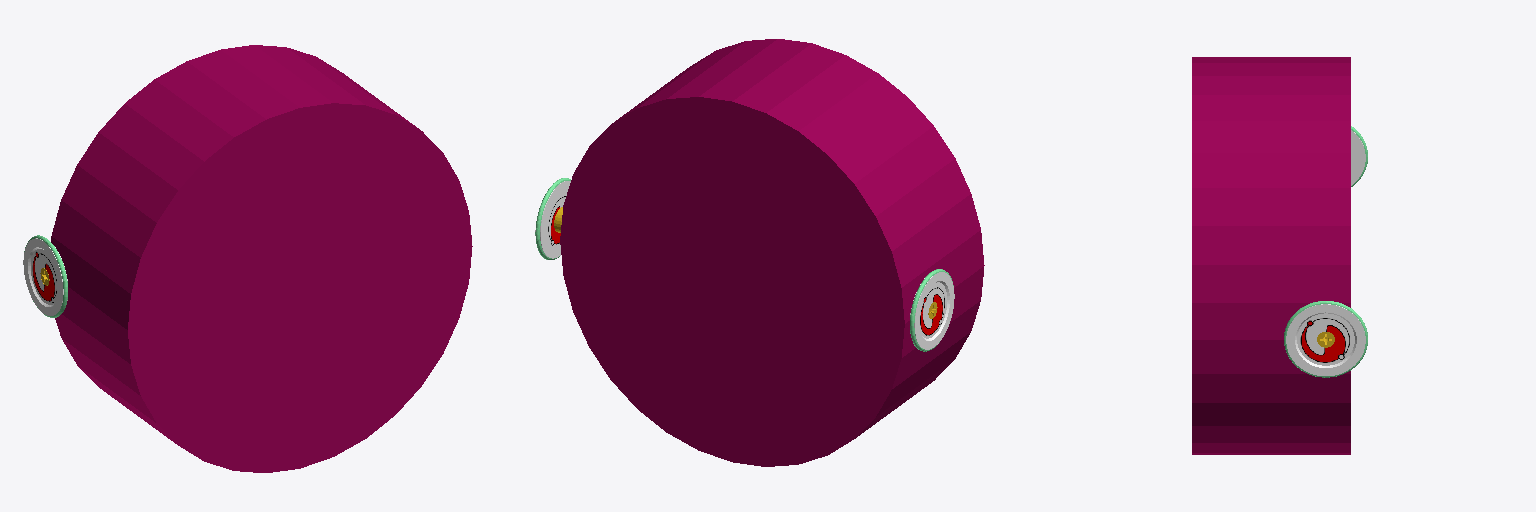
The picture shows the model from 3 angles: view 1: azimuth 30°, elevation 25°; view 2: azimuth 150°, elevation 25°; view 3: azimuth 270°, elevation 25°; orthographic projection.
Bounding box in the file's own units: 0.44 × 0.4 × 0.1773.
Materials: 9 (1 with a texture image).